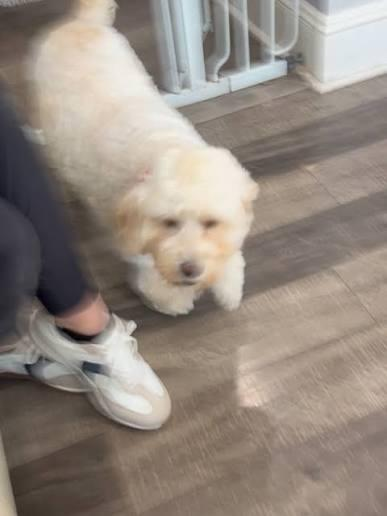adult_dog: (20, 0, 261, 319)
non-dog: (0, 88, 175, 432)
